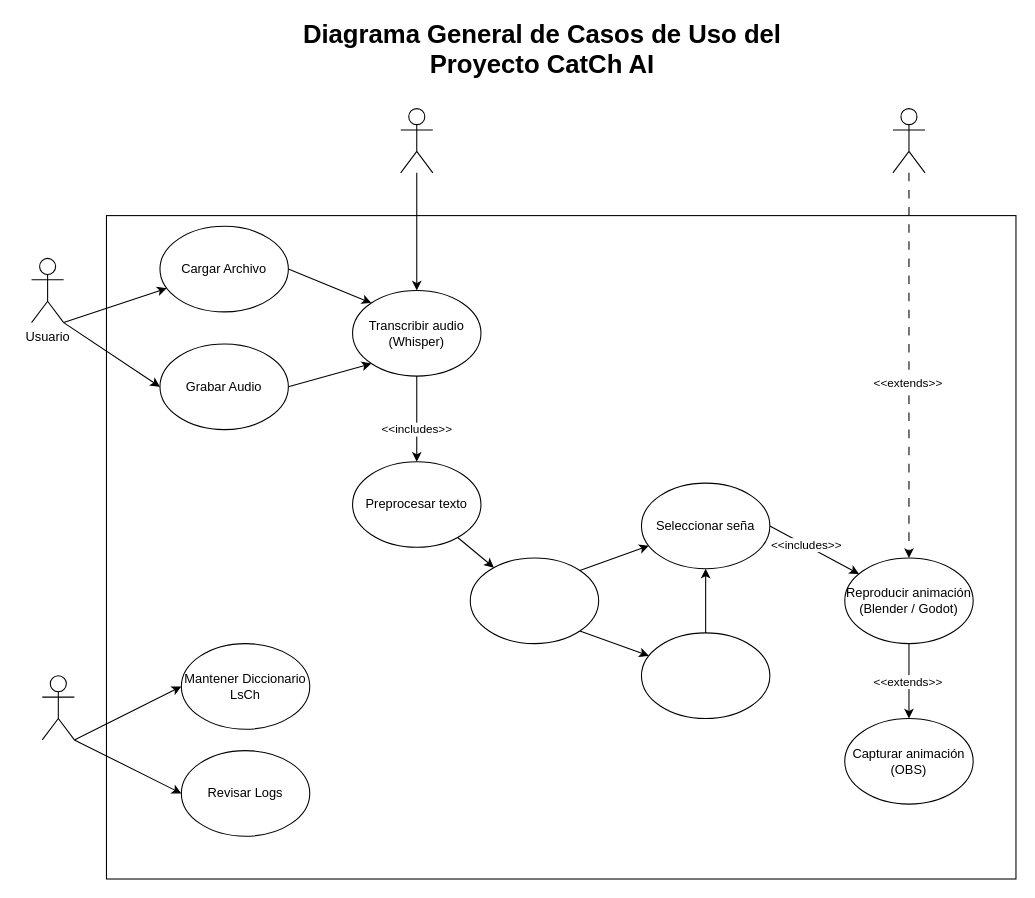
Image size: 1035x898. Some labels were removed from this diagram. The shapes that lost their labels are listed below. From the top down, each one's box as (x1, y1, x2, y2) in pixels, then its label:
(400, 108, 433, 173): Sistema
(892, 108, 925, 173): Stakeholder Canal 13c
(469, 557, 599, 644): Consultar Diccionario
(640, 632, 770, 719): Deletrear
(41, 675, 74, 740): Administrador
